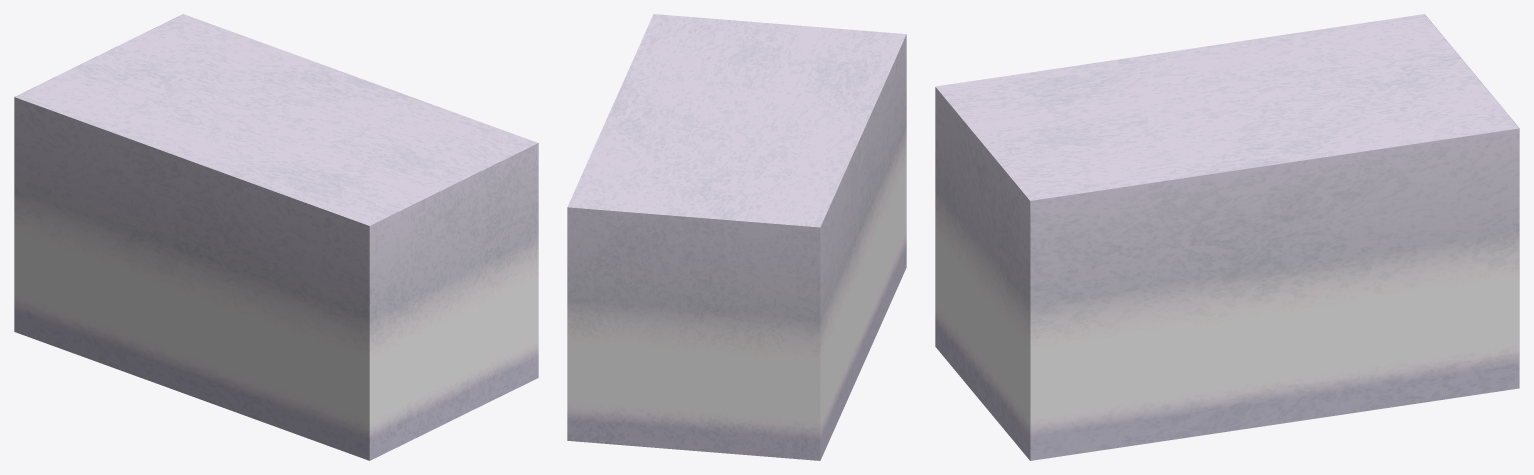
The model's file is MUNTREFArtesVisuales.gltf.
3 views of the same model, side by side, from view 1: azimuth 30°, elevation 25°; view 2: azimuth 150°, elevation 25°; view 3: azimuth 270°, elevation 25° (orthographic). The views are drawn at different scales.
Parts seen in each view (by area): view 1: MUNTREFArtesVisuales; view 2: MUNTREFArtesVisuales; view 3: MUNTREFArtesVisuales.
Part boxes in pixels (x1,y1,x2,y2): MUNTREFArtesVisuales: (14, 14, 538, 460); MUNTREFArtesVisuales: (567, 14, 906, 460); MUNTREFArtesVisuales: (935, 14, 1519, 460).
Bounding box in the file's own units: 1.53 × 0.9918 × 2.02.
Materials: 1 (1 with a texture image).
